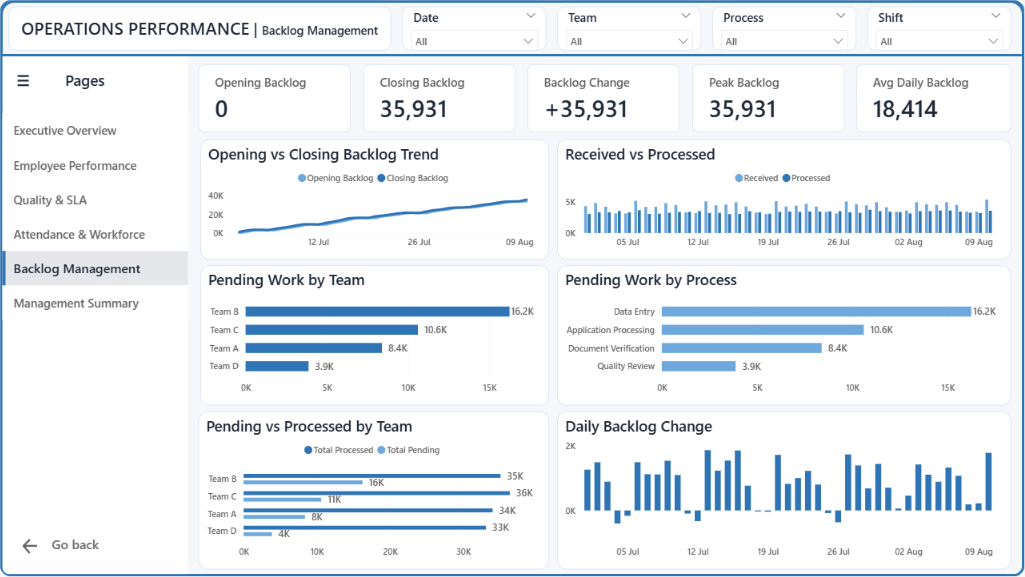

Layout of this report page (visuals, bound fields, positions):
{"tool":"powerbi","page":{"name":"Backlog Management","canvas":[1280,720],"ordinal":4},"visuals":[{"type":"shape","box":[0,0,1280,720],"z":0},{"type":"shape","box":[0,0,1280,70],"z":1000},{"type":"textbox","box":[10,7.5,478.8,55],"z":2000},{"type":"cardVisual","fields":{"Data":["Measure.Avg Daily Backlog"]},"box":[1070,80,193.8,85],"z":3000},{"type":"shape","box":[2,70,232,647.5],"z":4000},{"type":"cardVisual","fields":{"Data":["Measure.Peak Backlog"]},"box":[864.4,80,190,85],"z":5000},{"type":"cardVisual","fields":{"Data":["Measure.Opening Backlog"]},"box":[247.5,80,190,85],"z":6000},{"type":"cardVisual","fields":{"Data":["Measure.Closing Backlog"]},"box":[453.1,80,190,85],"z":7000},{"type":"slicer","fields":{"Values":["DateTable.Date"]},"box":[502.5,7.5,180,55],"z":8000},{"type":"slicer","fields":{"Values":["dim_team.Team"]},"box":[696.2,7.5,180,55],"z":9000},{"type":"slicer","fields":{"Values":["dim_process.Process"]},"box":[890,7.5,180,55],"z":10000},{"type":"slicer","fields":{"Values":["dim_shift.Shift"]},"box":[1083.8,7.5,180,55],"z":11000},{"type":"pageNavigator","box":[2,141.2,232.5,261.2],"z":12000},{"type":"actionButton","box":[24,669,37.5,27.5],"z":13000},{"type":"textbox","box":[51.2,663.8,85,41.2],"z":14000},{"type":"textbox","box":[10,82,167.5,41.2],"z":15000},{"type":"cardVisual","fields":{"Data":["Measure.Backlog Change"]},"box":[658.8,80,190,85],"z":16000},{"type":"lineChart","title":"Opening vs Closing Backlog Trend","fields":{"Y":["Measure.Daily Opening Backlog","Measure.Daily Closing Backlog"],"Category":["DateTable.Date"]},"box":[250,173.8,436.2,150],"z":17000},{"type":"clusteredColumnChart","title":"Received vs Processed","fields":{"Y":["Measure.Daily Received","Measure.Daily Processed"],"Category":["DateTable.Date"]},"box":[696.2,173.8,567.5,150],"z":18000},{"type":"clusteredBarChart","title":"Pending Work by Team","fields":{"Category":["fact_operations.Team"],"Y":["Measure.Pending by Team"]},"box":[250,331.2,436.2,175],"z":19000},{"type":"clusteredBarChart","title":"Pending Work by Process","fields":{"Category":["fact_operations.Process"],"Y":["Measure.Pending by Process"]},"box":[696.2,331.2,567.5,175],"z":20000},{"type":"clusteredColumnChart","title":"Daily Backlog Change","fields":{"Y":["Measure.Daily Backlog Change"],"Category":["DateTable.Date"]},"box":[696.2,513.8,567.5,197.5],"z":21000},{"type":"clusteredBarChart","title":"Pending vs Processed by Team","fields":{"Category":["fact_operations.Team"],"Y":["Measure.Total Processed","Measure.Total Pending"]},"box":[247.5,513.8,438.8,197.5],"z":22000}]}

Visuals, with their boxes in screenshot pixels (x1, y1, x2, y2), scaled from the page's 1280x720 canvas onto the 1025x577 screenshot:
shape: bbox=[0, 0, 1024, 576]
shape: bbox=[0, 0, 1024, 56]
textbox: bbox=[8, 6, 391, 50]
cardVisual - Measure.Avg Daily Backlog: bbox=[857, 64, 1012, 132]
shape: bbox=[2, 56, 187, 575]
cardVisual - Measure.Peak Backlog: bbox=[692, 64, 844, 132]
cardVisual - Measure.Opening Backlog: bbox=[198, 64, 350, 132]
cardVisual - Measure.Closing Backlog: bbox=[363, 64, 515, 132]
slicer - DateTable.Date: bbox=[402, 6, 547, 50]
slicer - dim_team.Team: bbox=[558, 6, 702, 50]
slicer - dim_process.Process: bbox=[713, 6, 857, 50]
slicer - dim_shift.Shift: bbox=[868, 6, 1012, 50]
pageNavigator: bbox=[2, 113, 188, 322]
actionButton: bbox=[19, 536, 49, 558]
textbox: bbox=[41, 532, 109, 565]
textbox: bbox=[8, 66, 142, 99]
cardVisual - Measure.Backlog Change: bbox=[528, 64, 680, 132]
"Opening vs Closing Backlog Trend" lineChart: bbox=[200, 139, 549, 259]
"Received vs Processed" clusteredColumnChart: bbox=[558, 139, 1012, 259]
"Pending Work by Team" clusteredBarChart: bbox=[200, 265, 549, 406]
"Pending Work by Process" clusteredBarChart: bbox=[558, 265, 1012, 406]
"Daily Backlog Change" clusteredColumnChart: bbox=[558, 412, 1012, 570]
"Pending vs Processed by Team" clusteredBarChart: bbox=[198, 412, 550, 570]
